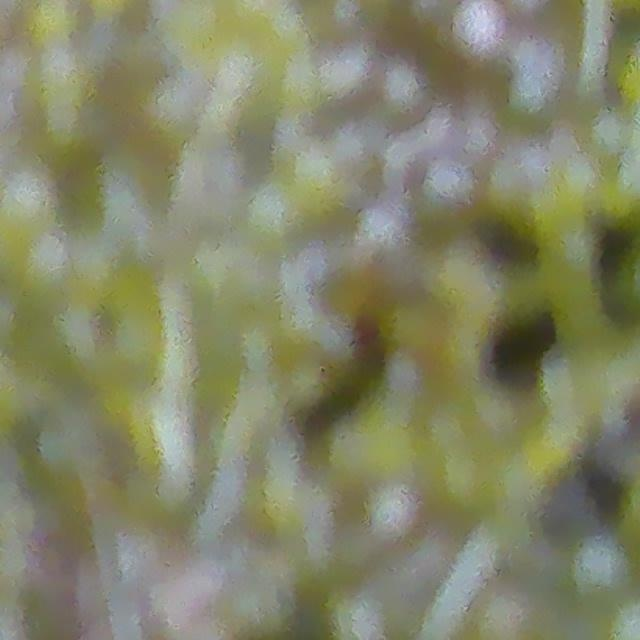SeaGrape: (433, 0, 516, 76), (567, 533, 637, 601)
